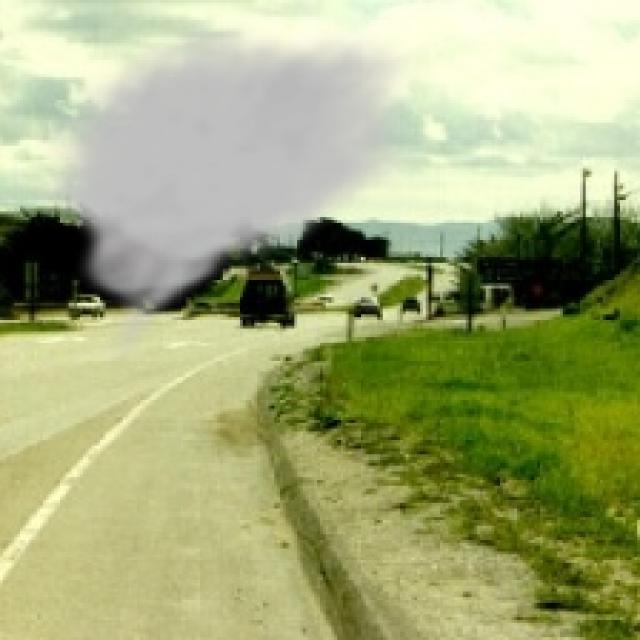smoke: (34, 20, 429, 366)
